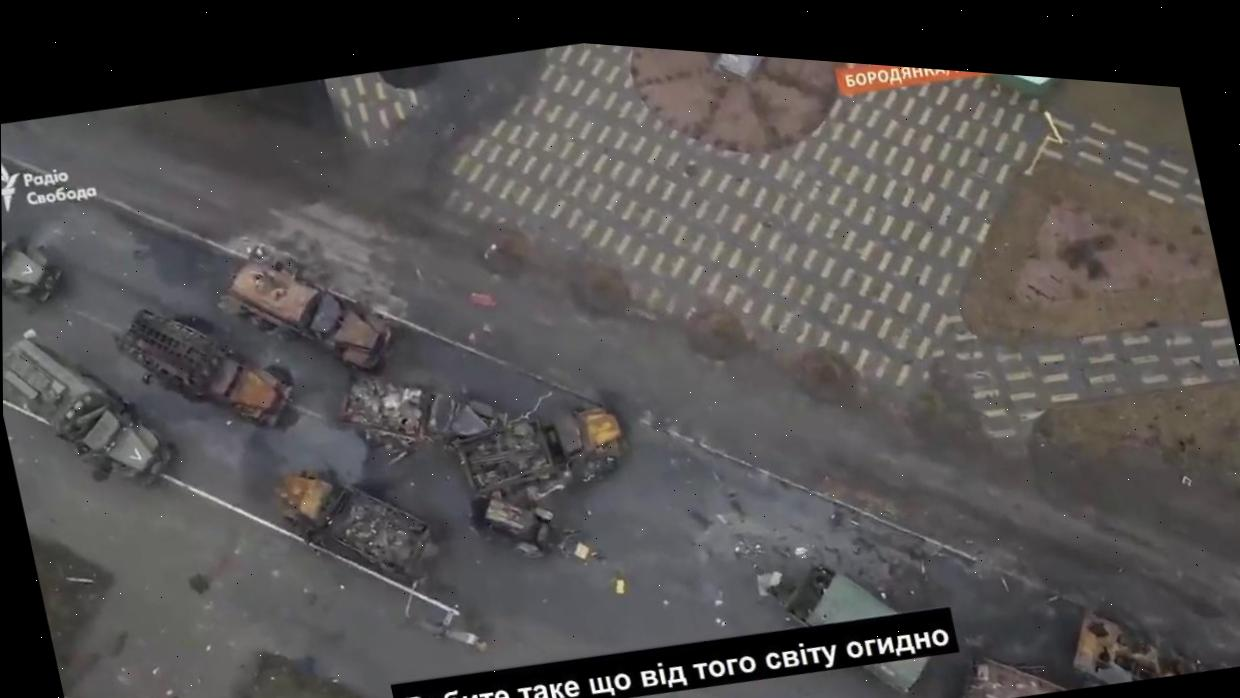truck: (746, 506, 948, 698), (2, 311, 181, 516), (105, 277, 298, 452), (219, 230, 400, 396), (270, 440, 444, 610), (454, 381, 638, 517), (341, 350, 499, 471), (1, 198, 63, 318)
